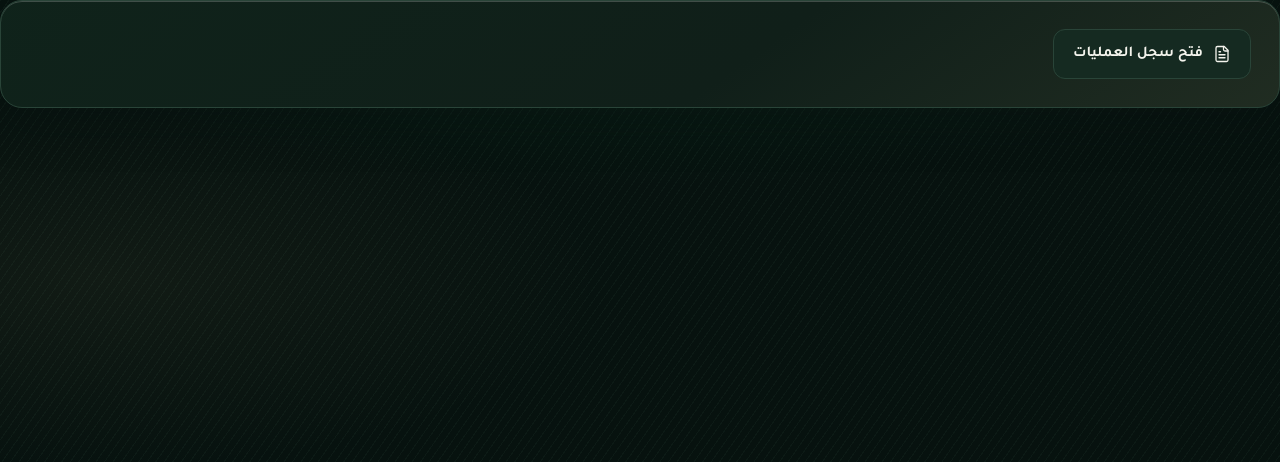
Test: shows audit failures instead of an empty-success message
Click the button "فتح سجل العمليات" at (1152, 54), box [1053,29,1251,79]
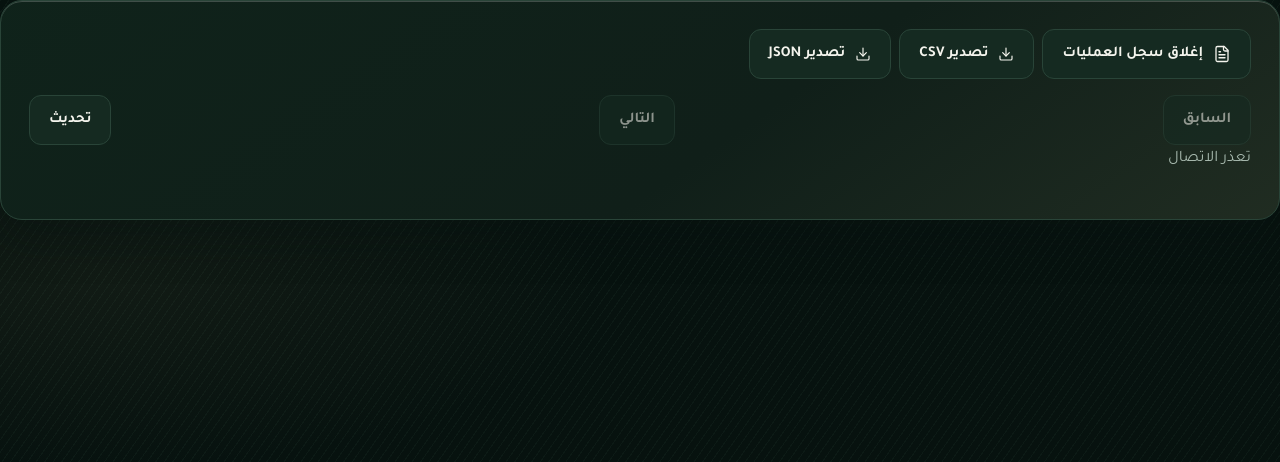
Expected: the message "تعذر الاتصال" is shown, [1168,151,1251,167]
